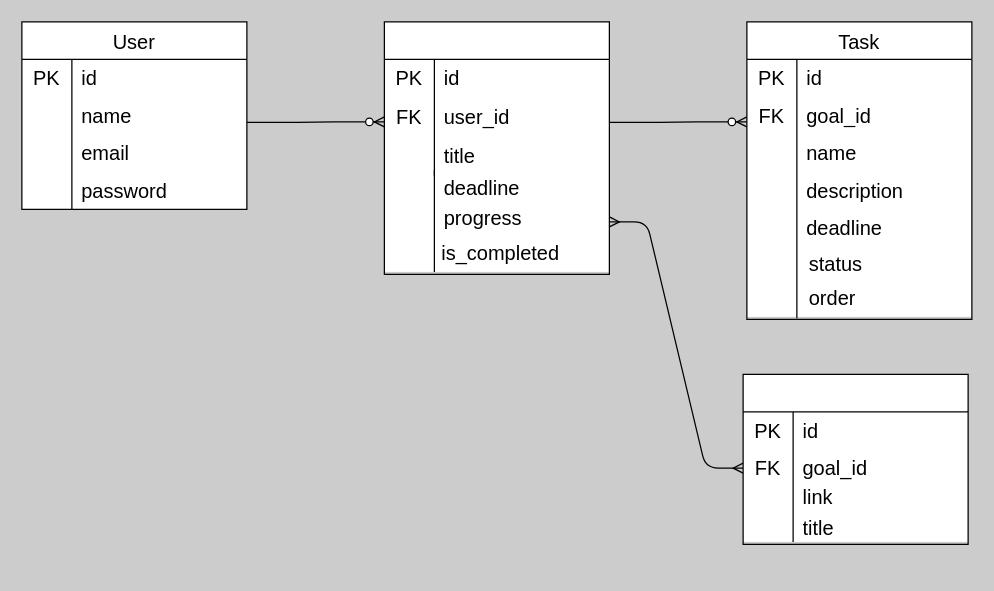
Image size: 994x591. Some labels were removed from this diagram. Here are the shapes that lost their labels. From the top down, the box of each, then its label:
(383, 21, 609, 274): Goal
(742, 373, 968, 544): Recource
